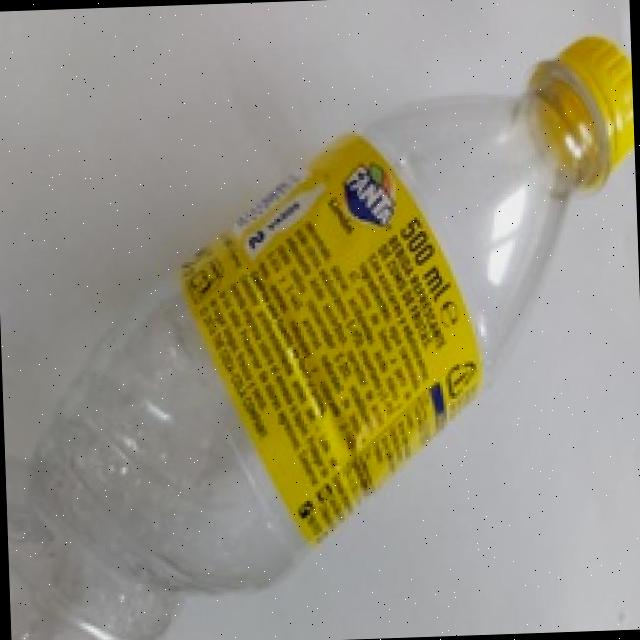bottle: (27, 32, 640, 640)
cap: (543, 29, 635, 175)
label: (128, 117, 514, 558)
